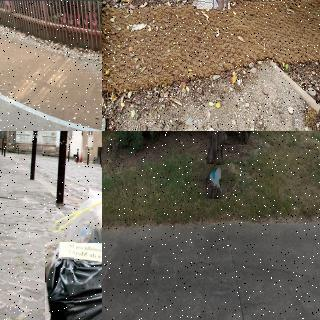Garbage: (50, 183, 102, 299), (44, 243, 102, 320), (204, 165, 228, 199)
